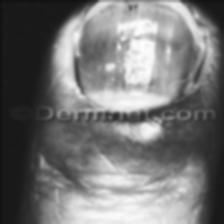Toxin: (68, 0, 204, 106)
